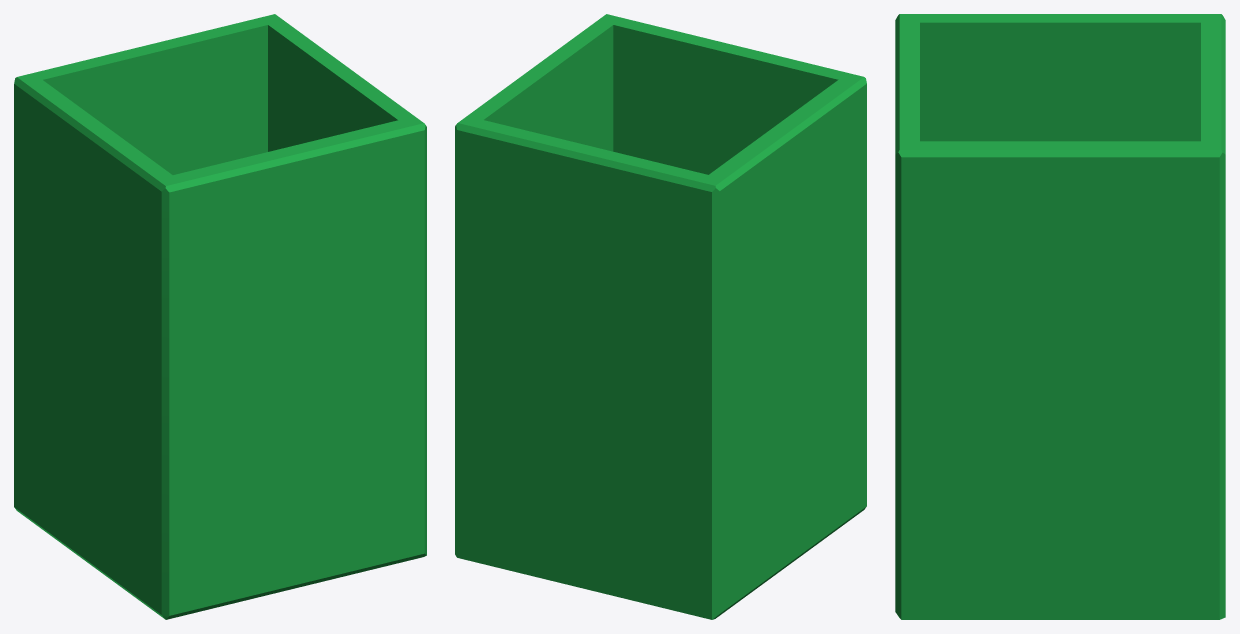
The model's file is Basura_Verde.FBX.
The picture shows the model from 3 angles, left to right: view 1: azimuth 30°, elevation 25°; view 2: azimuth 150°, elevation 25°; view 3: azimuth 270°, elevation 25°; orthographic projection. The views are drawn at different scales.
Parts seen in each view (by area): view 1: Bote_de_basura001; view 2: Bote_de_basura001; view 3: Bote_de_basura001.
Boxes of the visible parts, x1,y1,x2,y2 form: Bote_de_basura001: [14, 14, 426, 619]; Bote_de_basura001: [455, 14, 866, 619]; Bote_de_basura001: [895, 14, 1225, 619].
Bounding box in the file's own units: 16 × 25 × 16.
Materials: 2 (2 with a texture image).
